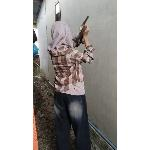Kapak: (78, 11, 94, 33)
